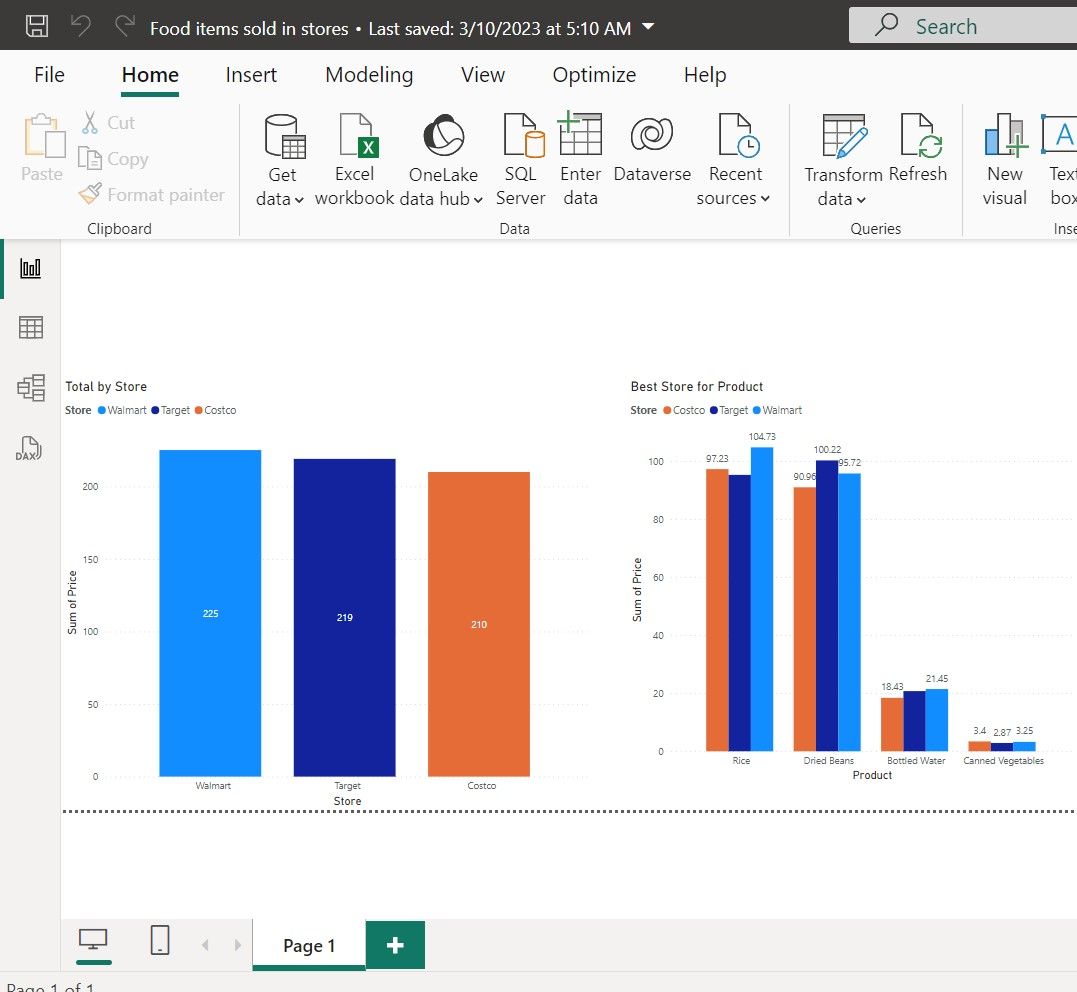

The page's visual inventory and layout, read from the dashboard file:
{"tool":"powerbi","page":{"name":"Page 1","canvas":[1280,720],"ordinal":0},"visuals":[{"type":"columnChart","title":"Total by Store ","fields":{"Category":["Sheet1.Store"],"Y":["Sum(Sheet1.Price)"],"Series":["Sheet1.Store"]},"box":[0,176.4,670.2,544.3],"z":0},{"type":"clusteredColumnChart","title":"Best Store for Product","fields":{"Category":["Sheet1.Product"],"Y":["Sum(Sheet1.Price)"],"Series":["Sheet1.Store"]},"box":[712.2,176.4,567.8,512.3],"z":1}]}

Visuals, with their boxes on the page's 1280x720 design canvas (x1, y1, x2, y2). These are canvas units, not pixel positions in the 1077x992 screenshot, which may show the page scaled, cropped or inside an application window:
"Total by Store " columnChart: Rect(0, 176, 670, 721)
"Best Store for Product" clusteredColumnChart: Rect(712, 176, 1280, 689)
